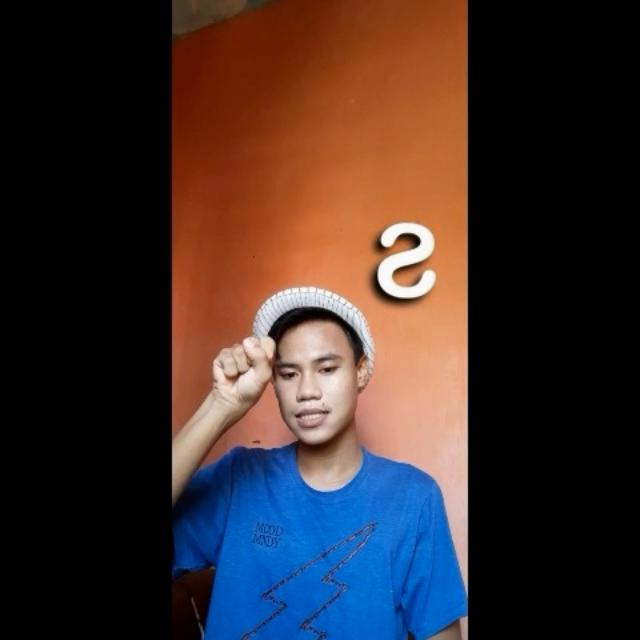S: (211, 334, 277, 410)
